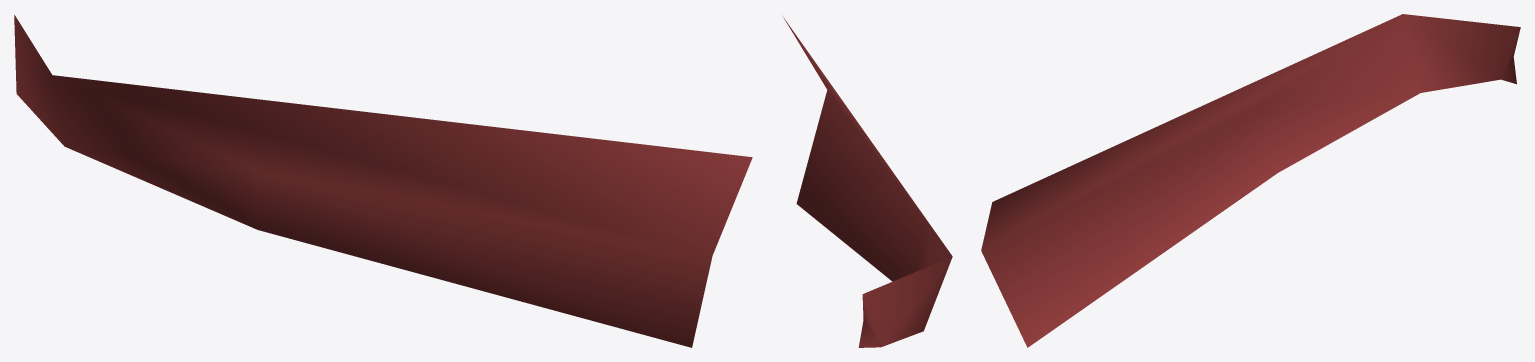
The model's file is medial-patellar-retinaculum-l.glb.
The picture shows the model from 3 angles, left to right: view 1: azimuth 30°, elevation 25°; view 2: azimuth 150°, elevation 25°; view 3: azimuth 270°, elevation 25°; orthographic projection. The views are drawn at different scales.
Visible parts, largest first — view 1: Medial patellar retinaculum.l; view 2: Medial patellar retinaculum.l; view 3: Medial patellar retinaculum.l.
Part boxes in pixels (<box>): Medial patellar retinaculum.l: <box>14,15,752,347</box>; Medial patellar retinaculum.l: <box>783,17,952,347</box>; Medial patellar retinaculum.l: <box>981,14,1520,347</box>.
Bounding box in the file's own units: 0.0367 × 0.0161 × 0.0463.
